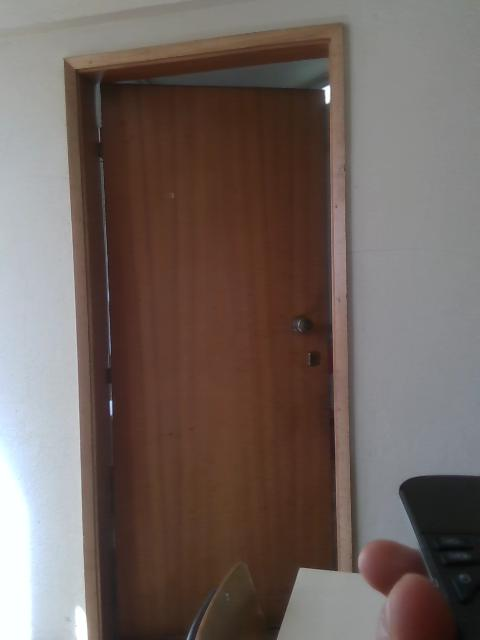door: (97, 89, 329, 639)
